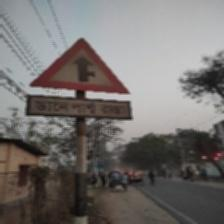Side-road-right: (27, 38, 133, 121)
